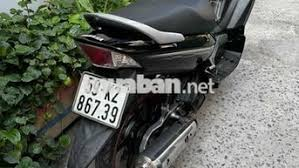Bien-so: (73, 72, 128, 129)
